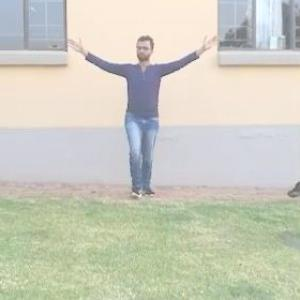takeoff: (60, 30, 210, 191)
